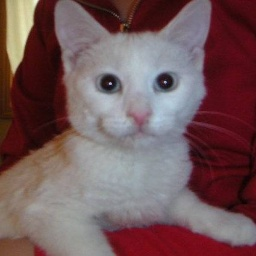cat: (0, 2, 256, 256)
